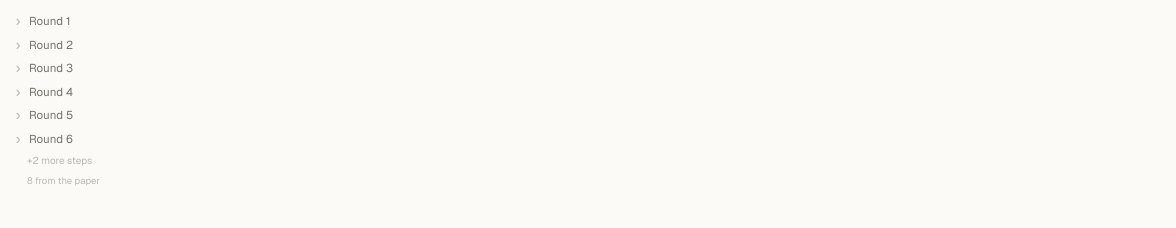
Test: Reasoning rounds › folds rounds after six and reveals the remaining rows
Check: the number of buttons with class "trail-round-toggle" is 6, box [12, 10, 1164, 32]; [12, 34, 1164, 55]; [12, 57, 1164, 78]; [12, 80, 1164, 102]; [12, 104, 1164, 126]; [12, 128, 1164, 149]
Click the button "+2 more steps" at (52, 161), box [12, 151, 92, 171]
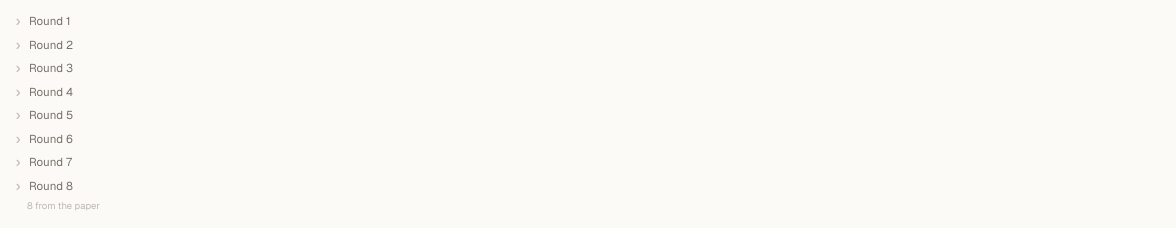
Check: the number of buttons with class "trail-round-toggle" is 8
